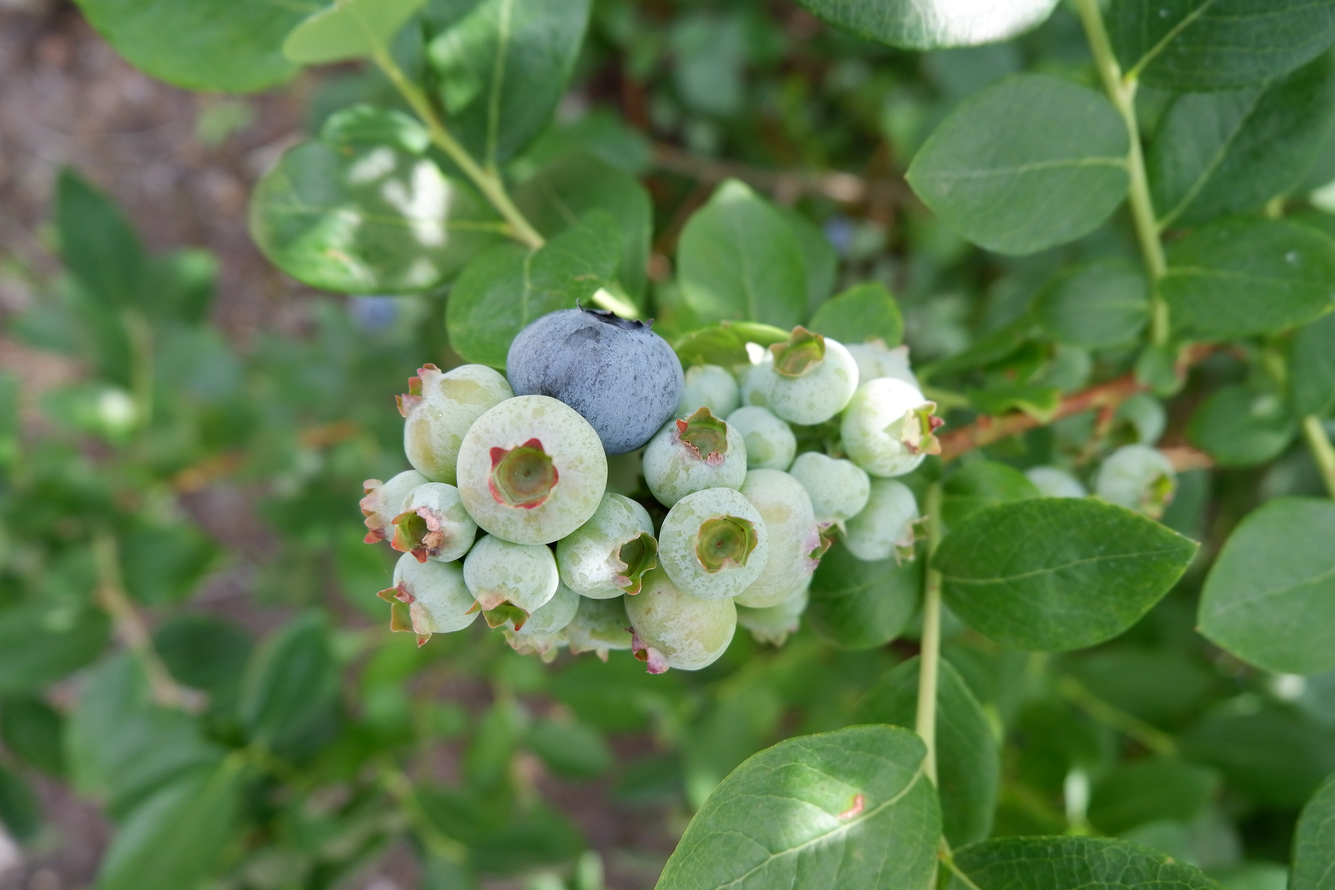Immature: (456, 396, 603, 542), (399, 364, 515, 482), (734, 471, 824, 606), (660, 490, 765, 599), (626, 568, 736, 670), (747, 330, 855, 423), (555, 495, 654, 596), (642, 410, 747, 505), (381, 553, 480, 648), (843, 381, 938, 476), (466, 536, 555, 626), (393, 484, 477, 560), (843, 480, 916, 561), (790, 454, 868, 525), (359, 470, 431, 545), (846, 335, 927, 397), (504, 582, 576, 651), (725, 408, 795, 471), (562, 593, 628, 659), (738, 587, 807, 645), (676, 364, 739, 419)
Mature: (509, 312, 685, 451)
